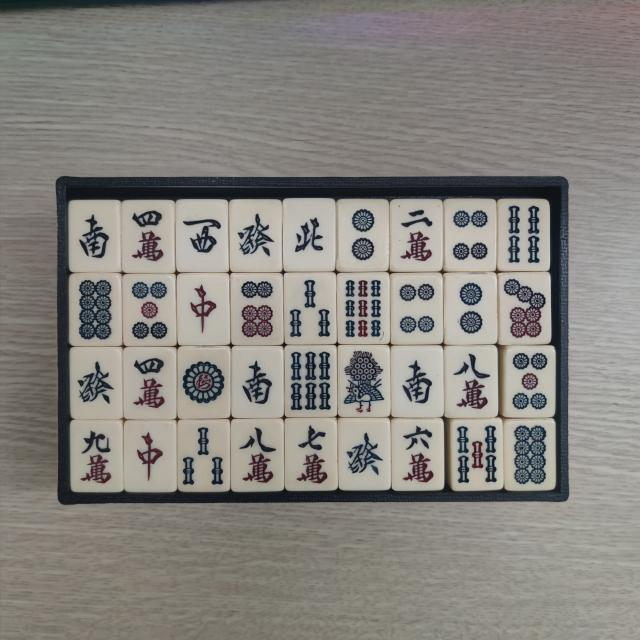hdg: (76, 352, 120, 416), (234, 205, 278, 268), (344, 424, 388, 487)
hdr: (182, 277, 225, 340), (128, 426, 170, 489)
hwn: (287, 203, 329, 264)
hws: (236, 349, 279, 412), (396, 349, 439, 412), (75, 203, 117, 266)
hww: (179, 204, 223, 266)
sb1: (341, 348, 387, 415)
sb3: (288, 278, 334, 342), (182, 422, 226, 487)
sb4: (504, 202, 544, 265)
sb5: (455, 422, 500, 486)
sb6: (291, 348, 335, 412)
sb9: (342, 276, 384, 341)
sc2: (396, 205, 438, 267)
sc4: (128, 351, 172, 414), (128, 205, 170, 268)
sc6: (398, 424, 441, 487)
sc7: (290, 423, 332, 488)
sc8: (448, 350, 494, 416), (237, 422, 281, 486)
sc9: (75, 426, 118, 489)
sd1: (182, 352, 228, 416)
sd2: (451, 279, 494, 341), (343, 202, 384, 266)
sd4: (396, 278, 439, 340), (449, 205, 491, 267)
sd5: (128, 280, 172, 344), (509, 351, 552, 414)
sd6: (236, 276, 279, 340)
sd7: (504, 278, 549, 342)
sd8: (75, 277, 118, 342), (511, 424, 552, 488)
